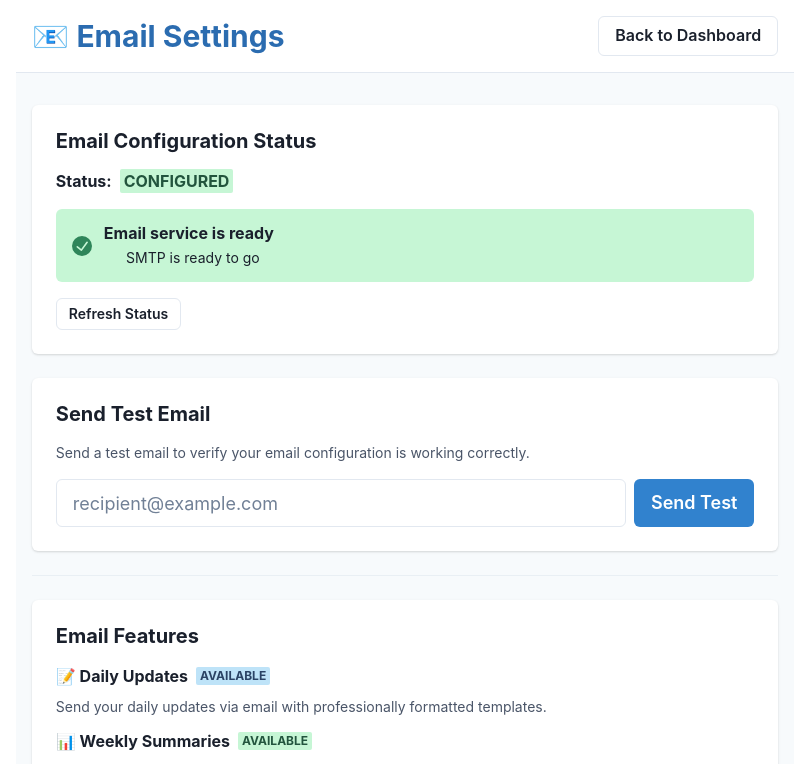
Test case: EmailSettings page › sends a test email and shows a success toast
The image size is (811, 764).
Expected: the text "Configured" is shown, x1=120 y1=169 x2=234 y2=193
Step 1. Type "someone@example.com" into the field with placeholder "recipient@example.com" → x=341, y=503, box x1=56 y1=479 x2=626 y2=527
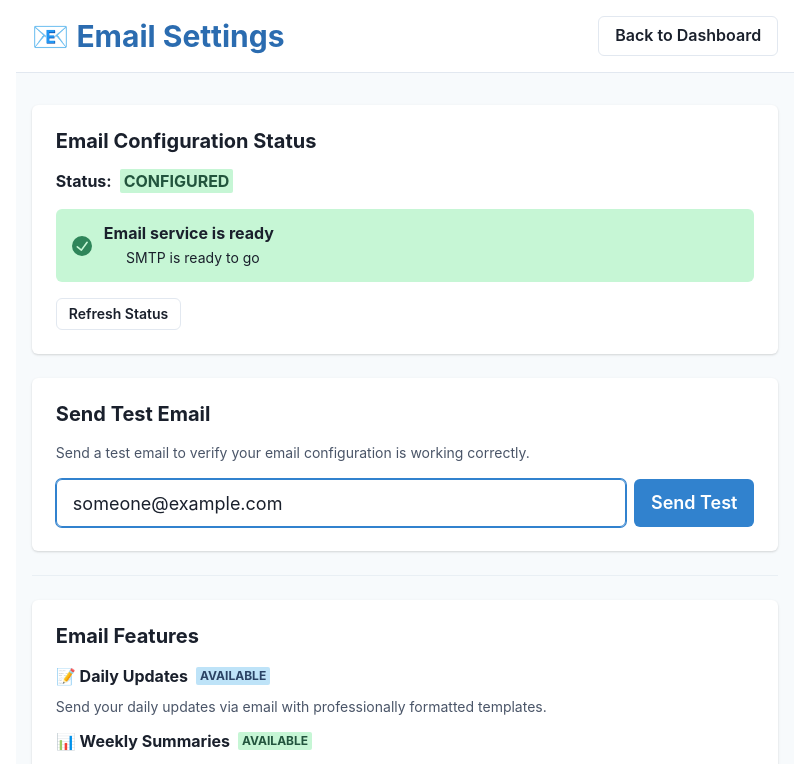
Step 2. Click the button "Send Test" → x=694, y=503, box x1=634 y1=479 x2=754 y2=527
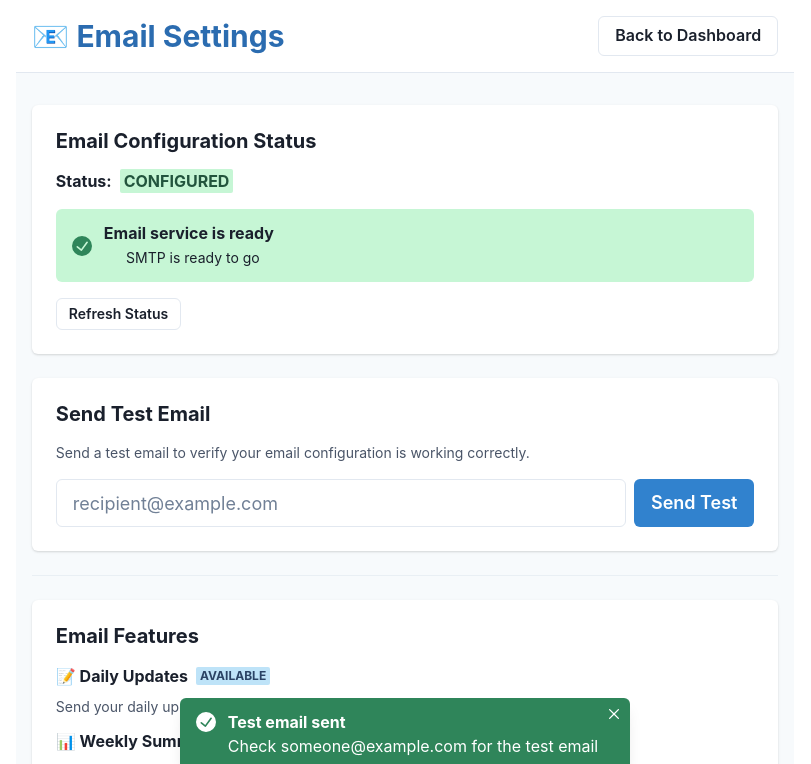
Expected: the text "Test email sent" is shown, x1=228 y1=712 x2=346 y2=732
